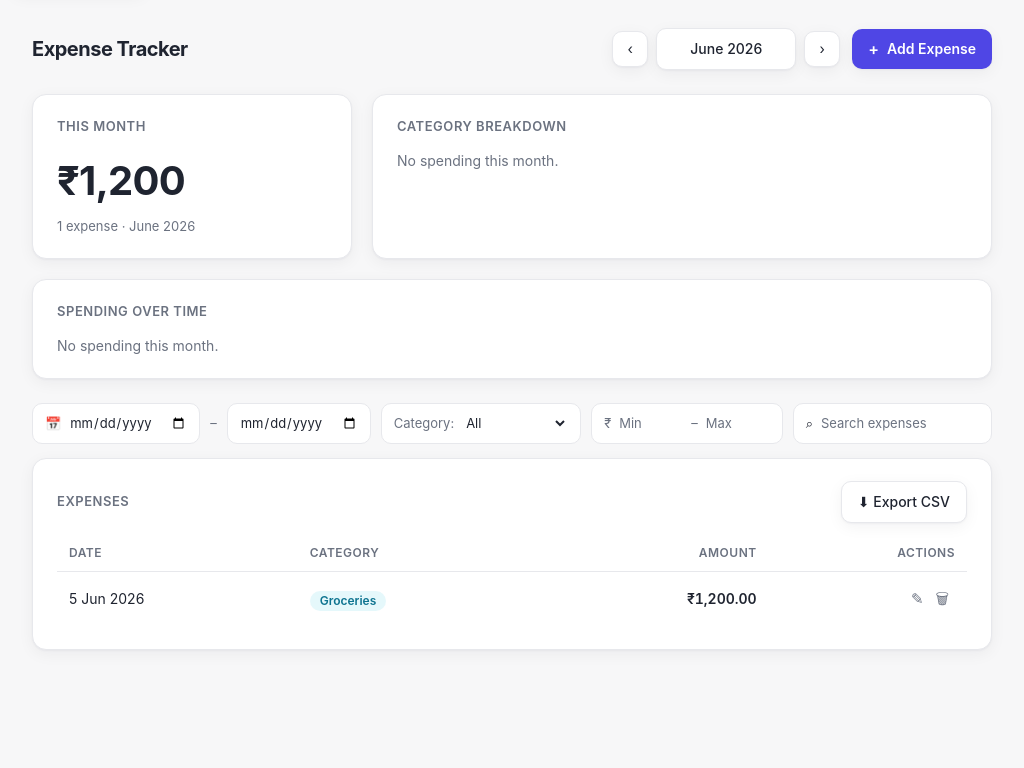
Test: App — Phase 7 exit: add/edit/delete update the dashboard live › adds an expense and the new row + updated total appear without a manual reload
Expected: the text "5 Jun 2026" is shown, x1=57 y1=572 x2=298 y2=626
Expected: the text "₹1,200.00" is shown, x1=541 y1=572 x2=769 y2=626
# Open the add modal from the header and fill a valid expense.
Click the button "+ Add Expense": [922, 49] box x1=852 y1=29 x2=992 y2=69
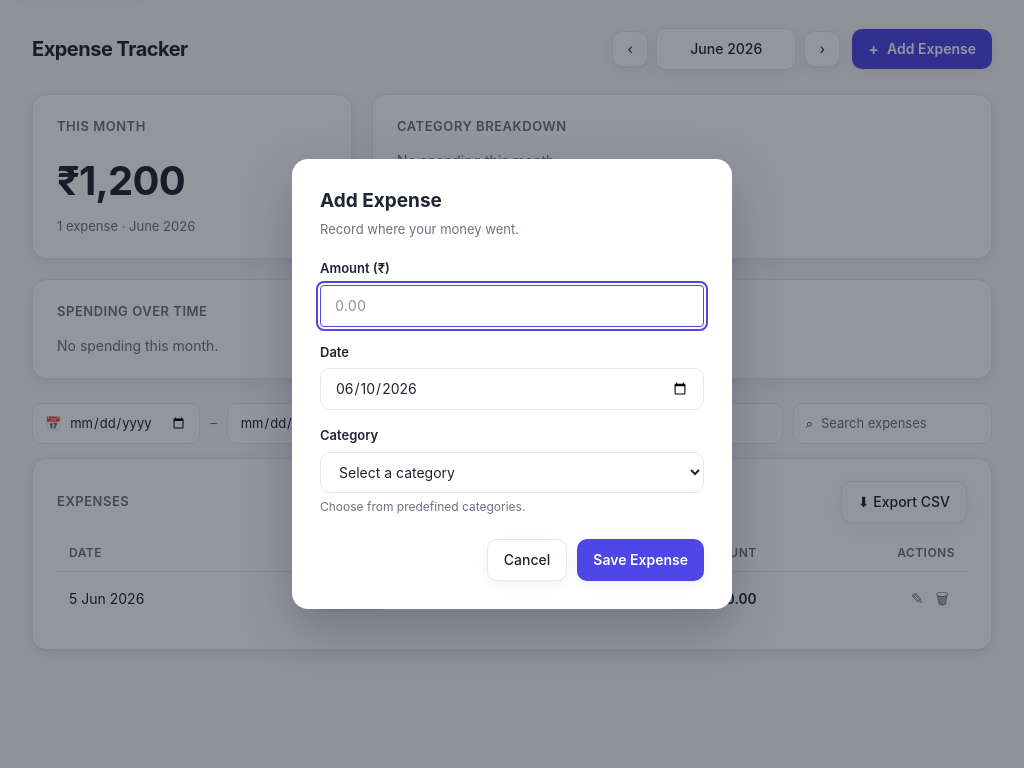
Expected: the heading "Add Expense" is shown, x1=320 y1=189 x2=442 y2=212
In the field labelled "Amount (₹)": [512, 306] box x1=320 y1=285 x2=704 y2=327, type "300.50"
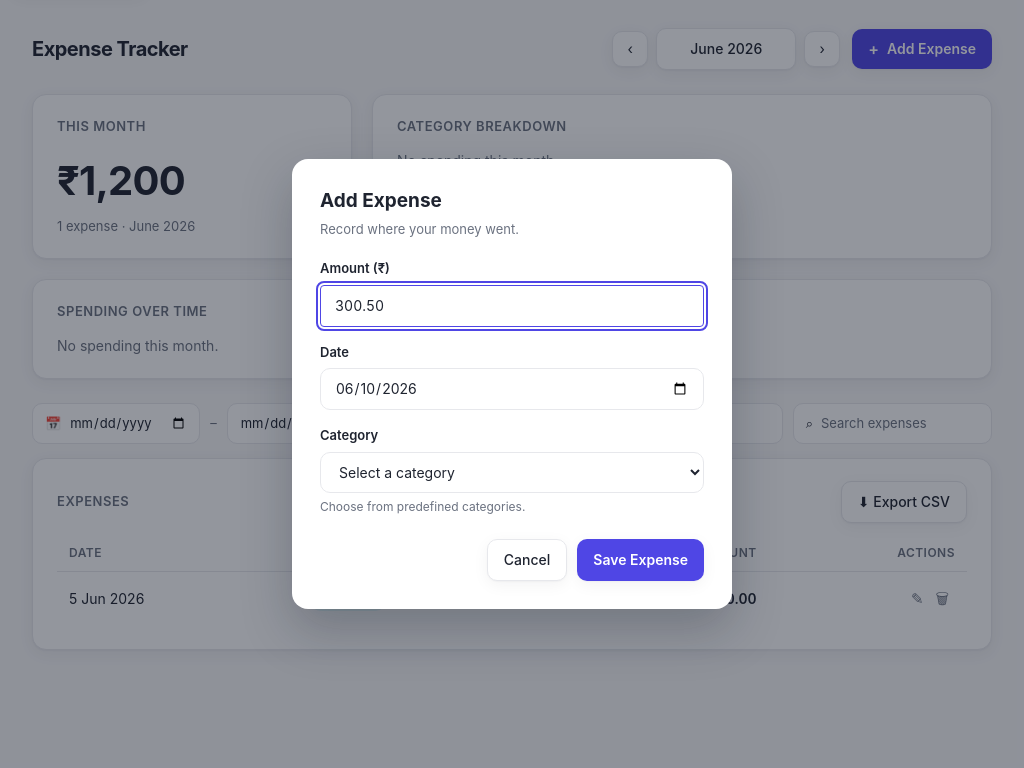
In the date field labelled "Date": [512, 389] box x1=320 y1=368 x2=704 y2=410, type "2026-06-09"
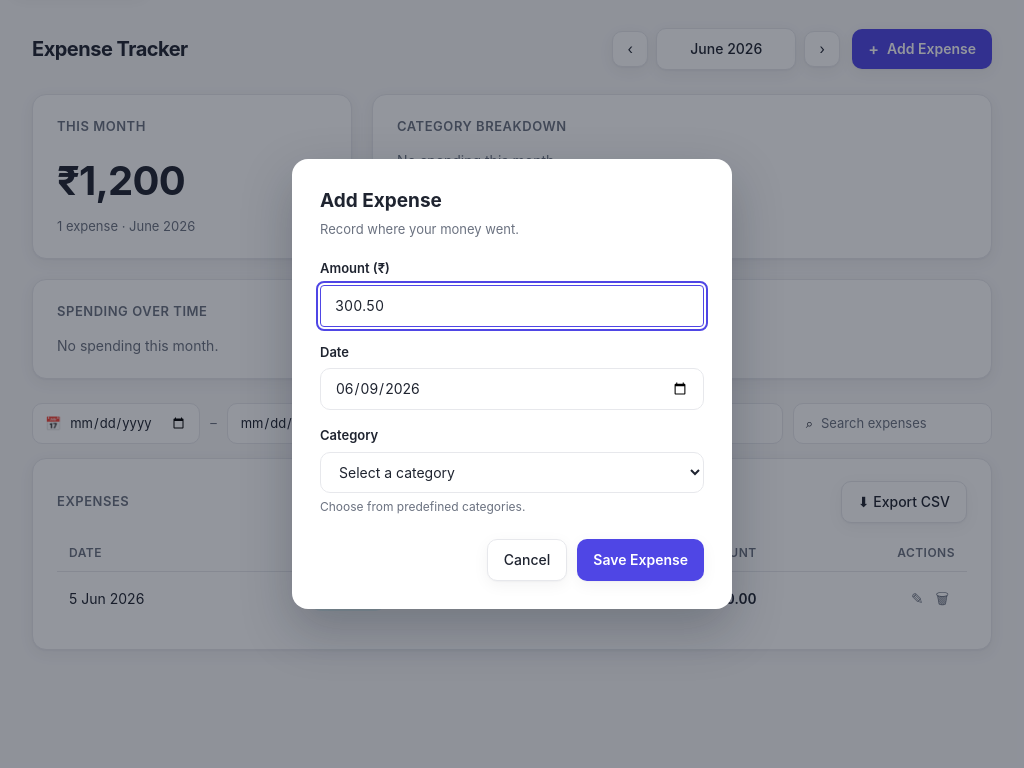
Select "Transport" in the dropdown labelled "Category": [512, 472] box x1=320 y1=452 x2=704 y2=493
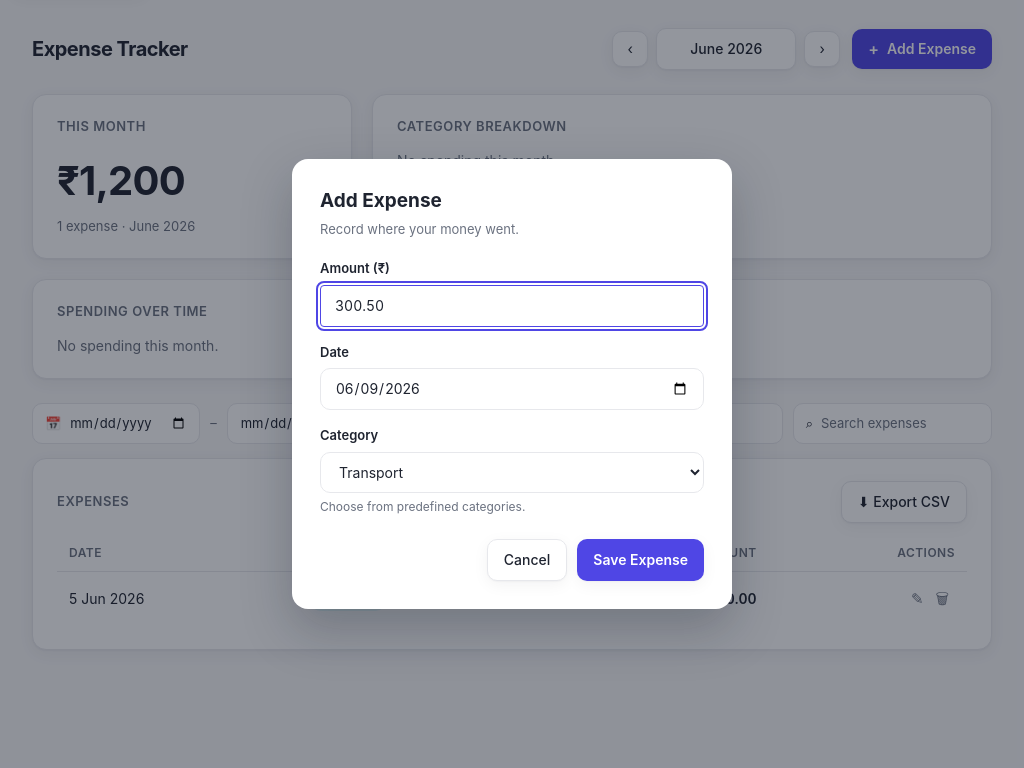
Click the button "Save Expense": [641, 560] box x1=577 y1=539 x2=704 y2=581
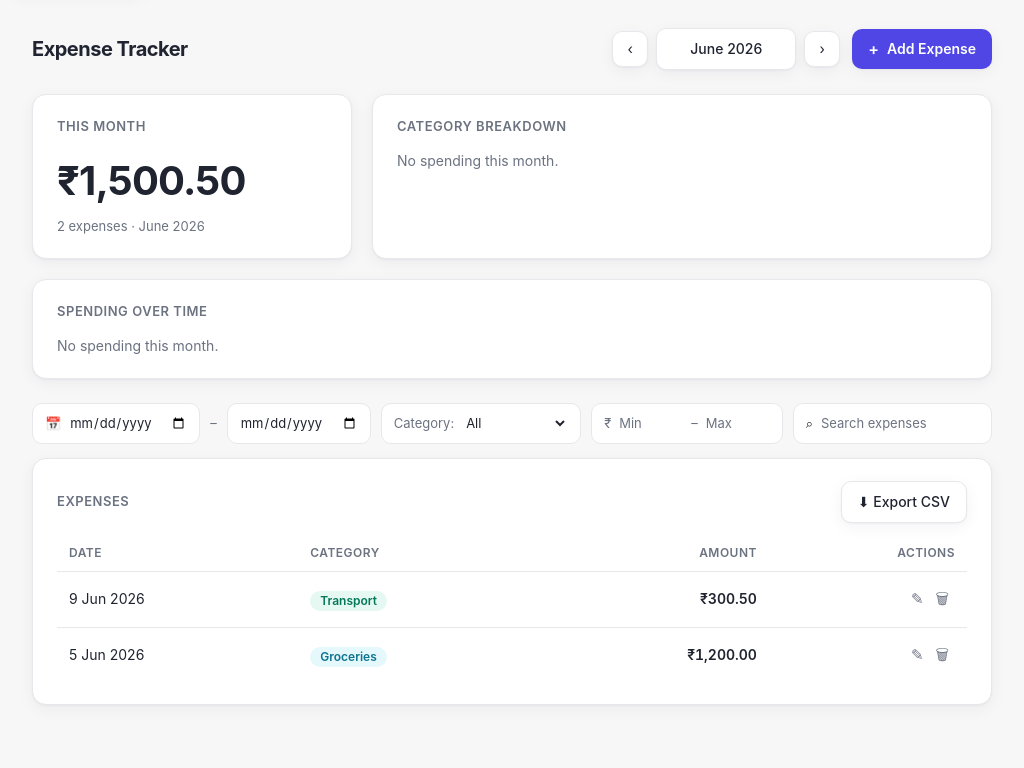
Expected: the text "9 Jun 2026" is shown, x1=57 y1=572 x2=298 y2=627
Expected: the text "Transport" is shown, x1=310 y1=591 x2=387 y2=611
Expected: the text "₹300.50" is shown, x1=542 y1=572 x2=769 y2=627
